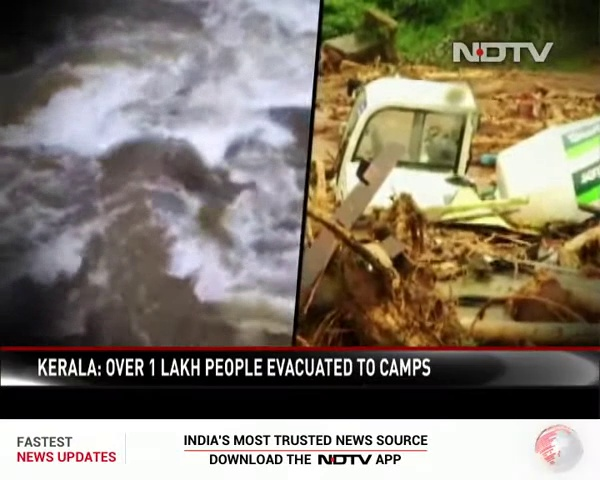house: (322, 10, 398, 69)
vehicle: (334, 86, 600, 227), (449, 283, 598, 346)
